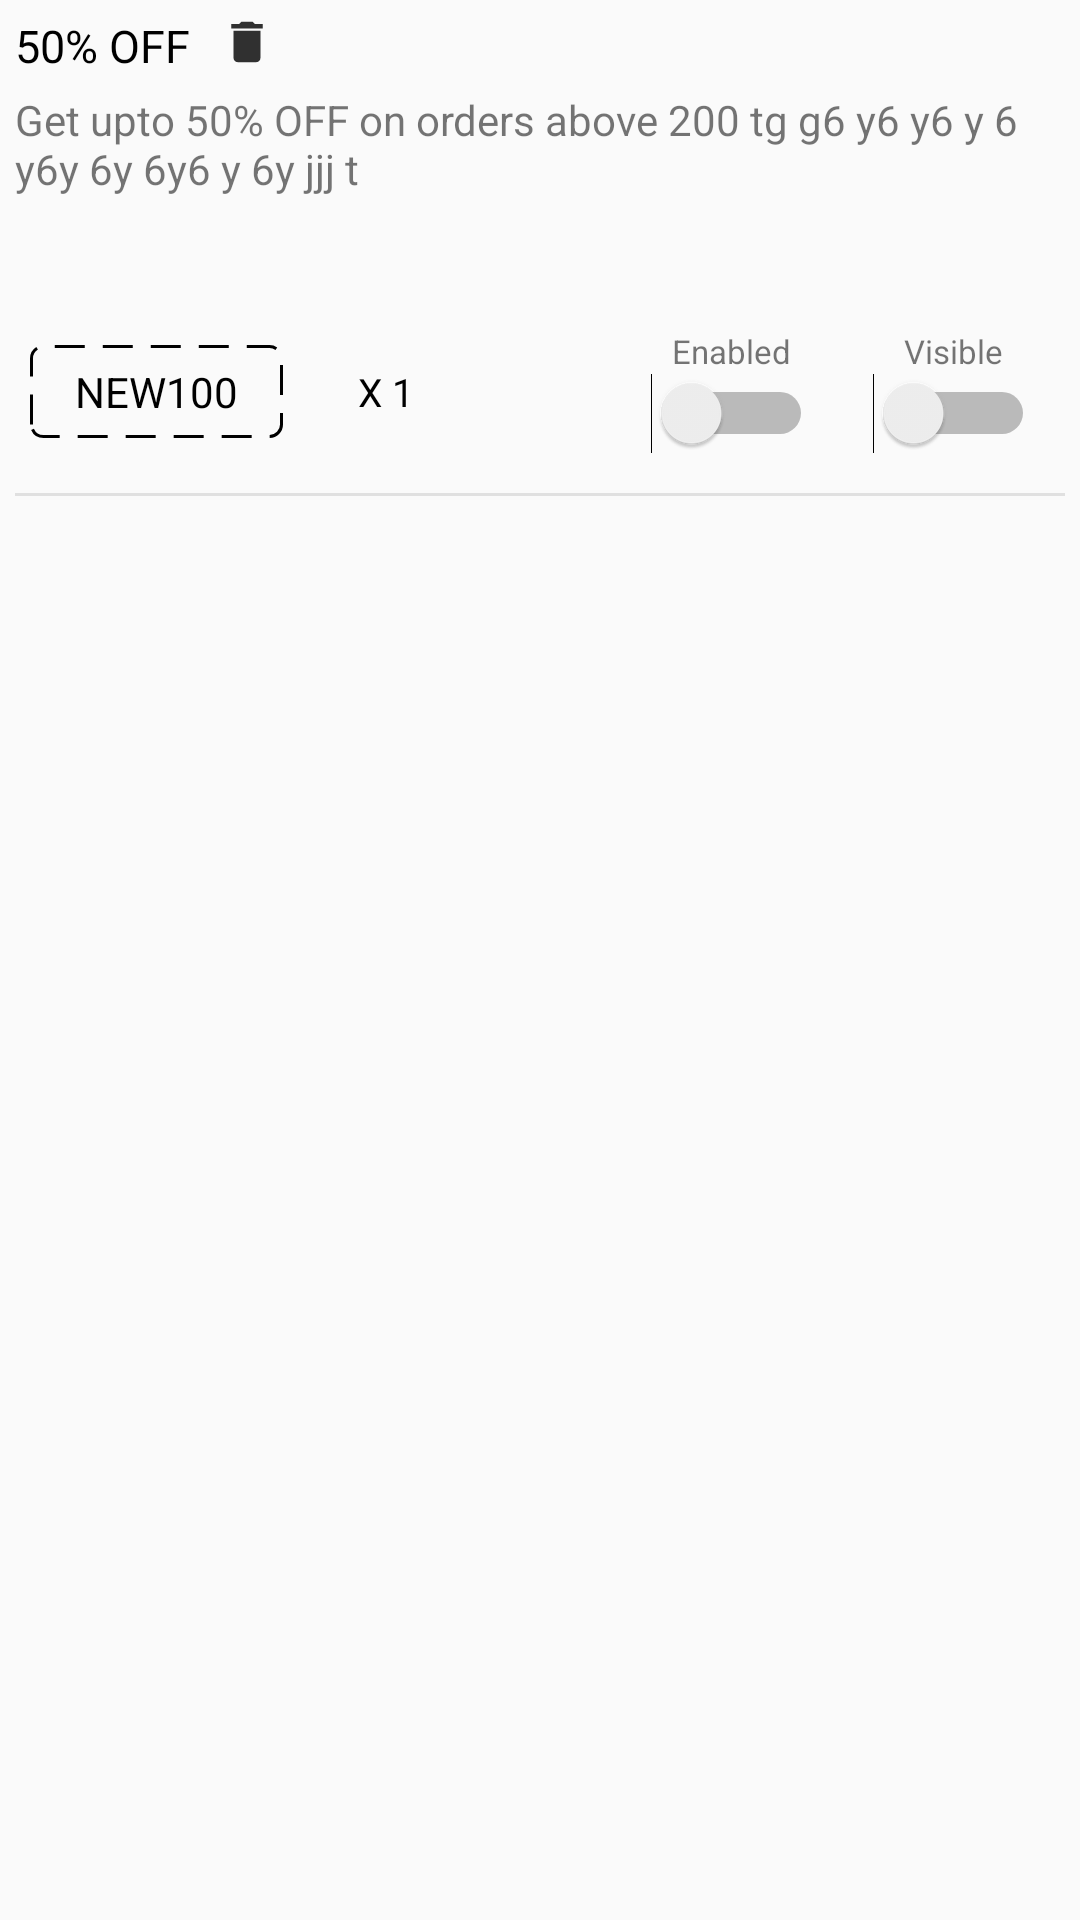

Named icons in this screenshot (1080px×1920px) and their bounding boxes, (x1, y1, x2, y2):
delete: (231, 21, 263, 63)
